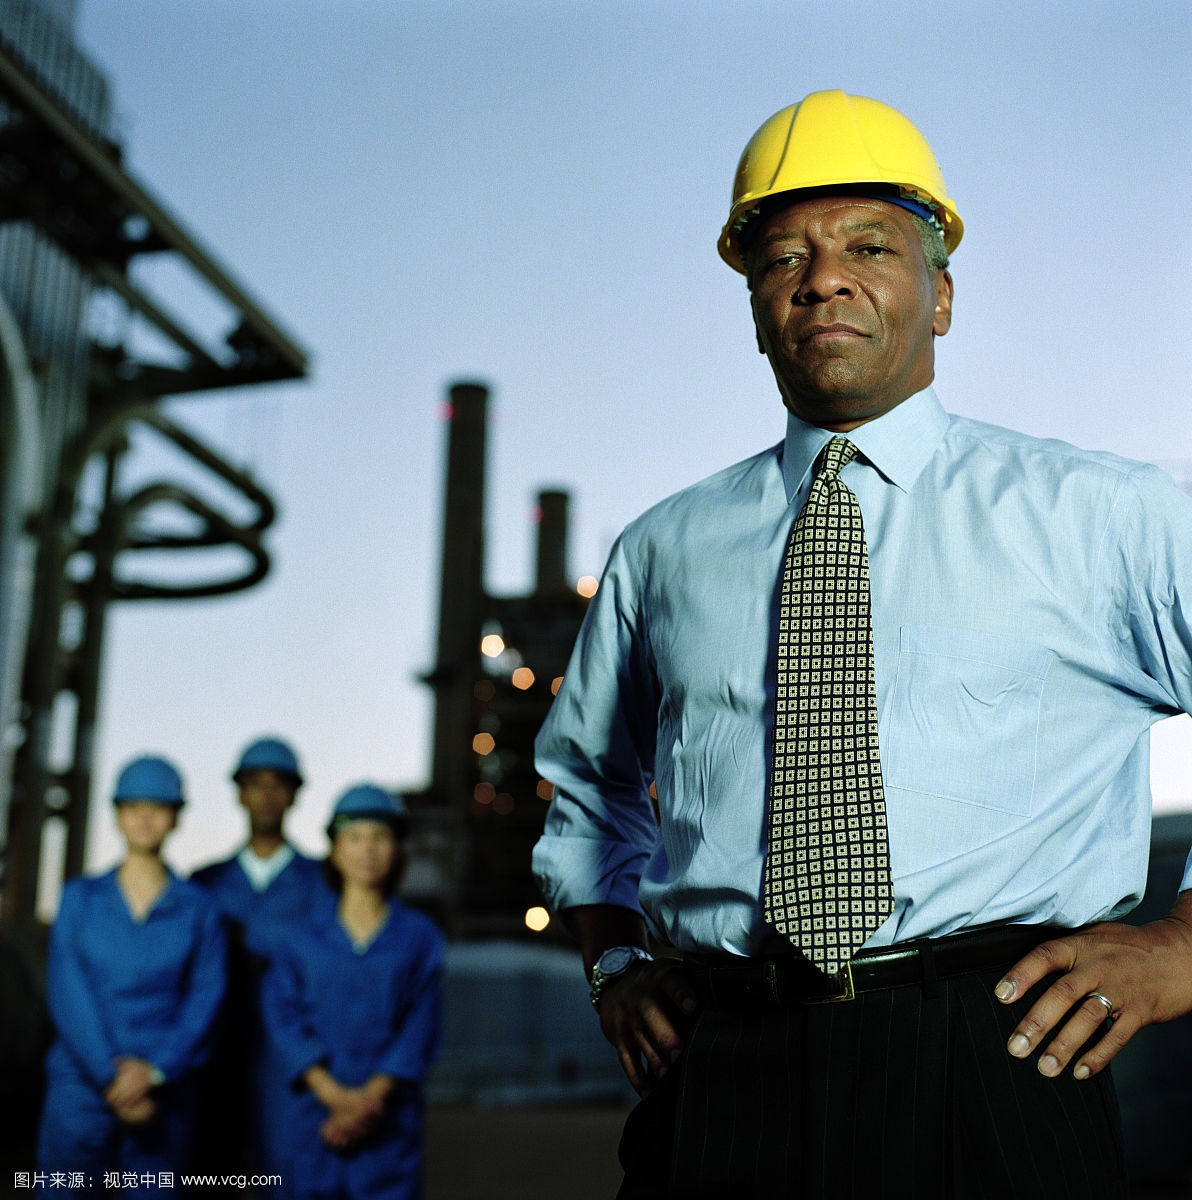blue: (322, 783, 405, 888), (107, 752, 188, 855), (229, 740, 303, 831)
yellow: (711, 92, 966, 416)
